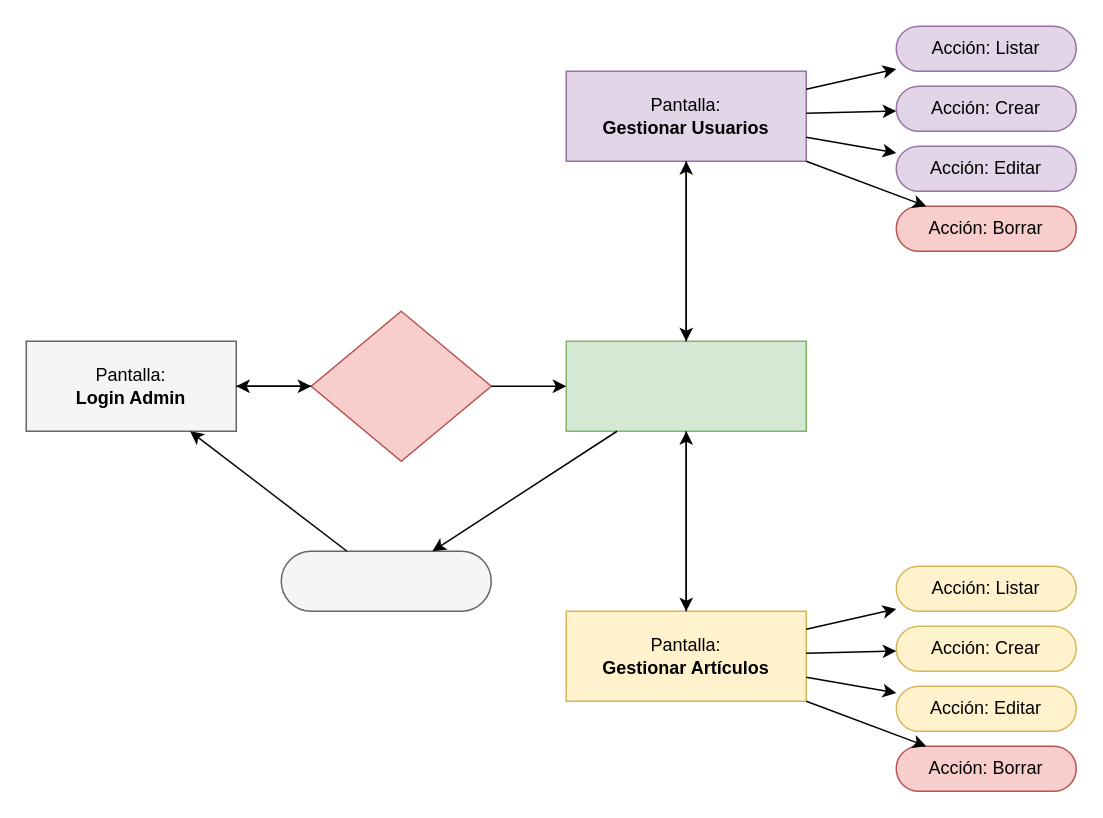
Image size: 1103x818. Some labels were removed from this diagram. The centre of each missing label's shape, as x and y in pixels:
Acción: Cerrar Sesión: the point at 385,580
Pantalla: Panel Admin (Dashboard): the point at 685,385
¿Credenciales Válidas?: the point at 400,385
